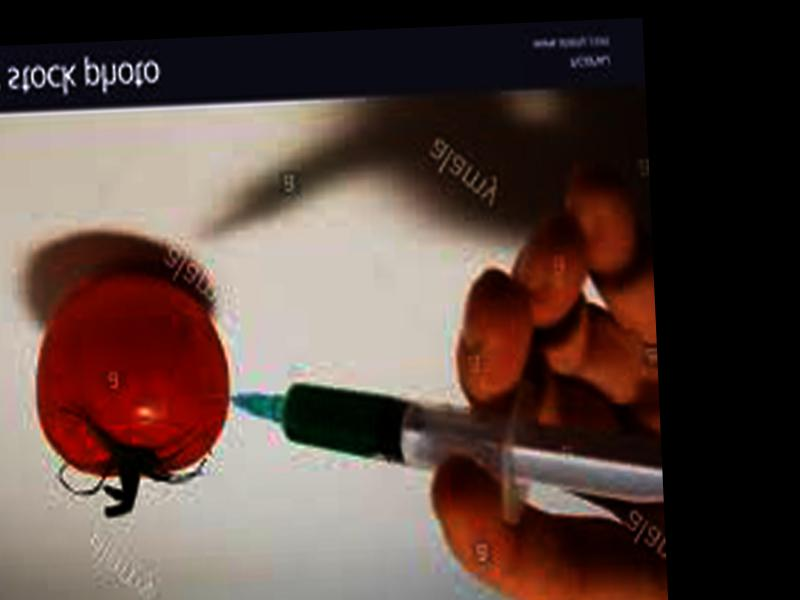Tomato: (34, 268, 232, 478)
